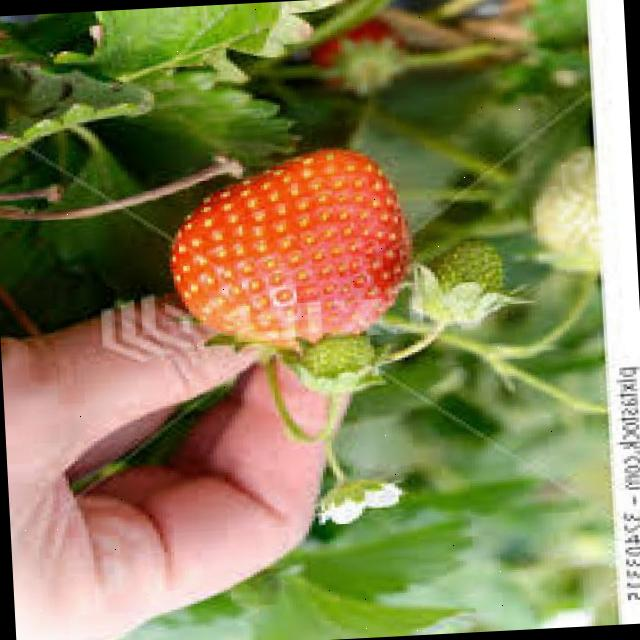strawberry: (162, 142, 414, 352), (532, 144, 603, 280), (423, 238, 508, 326), (300, 332, 380, 395)
